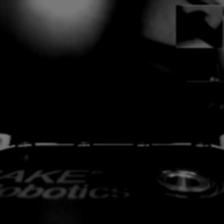Door Handle: (178, 2, 224, 51)
Lock: (189, 78, 224, 115)
